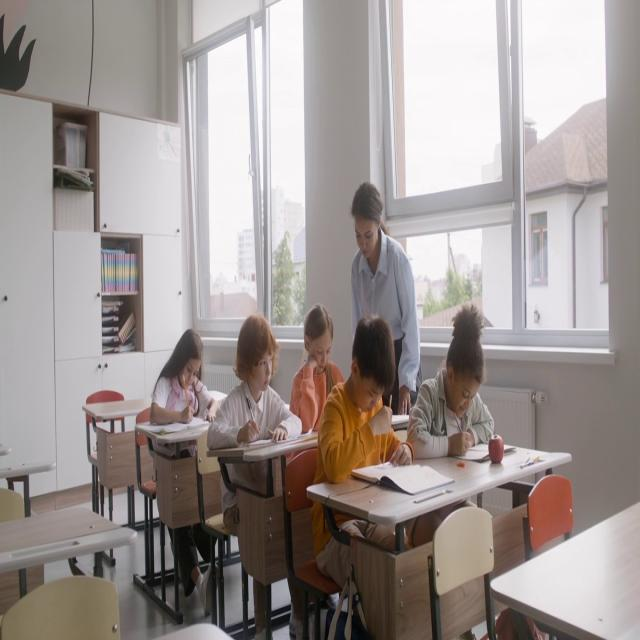reading: (295, 304, 346, 441)
turning: (409, 303, 495, 460)
writing: (312, 315, 431, 639), (208, 313, 302, 533), (150, 330, 215, 456)
